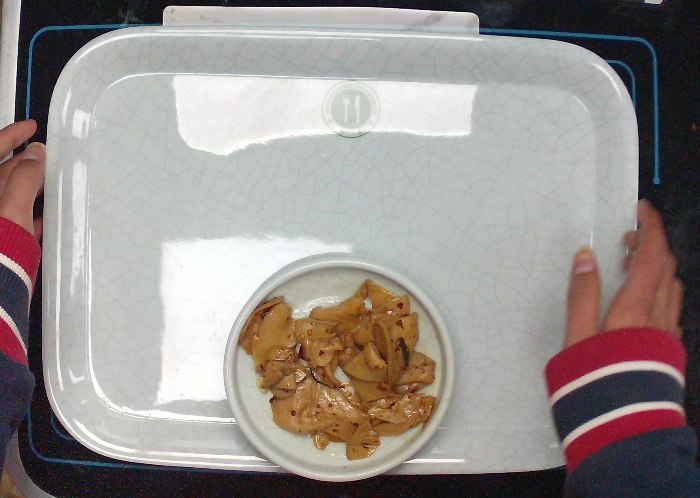JYsf-Xiao_Yuan_Pan: (217, 251, 458, 487)
